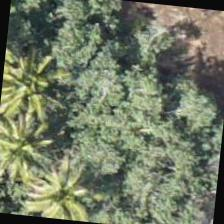Kelapa_Sawit: (26, 156, 124, 223), (0, 107, 64, 204), (0, 31, 59, 127)
